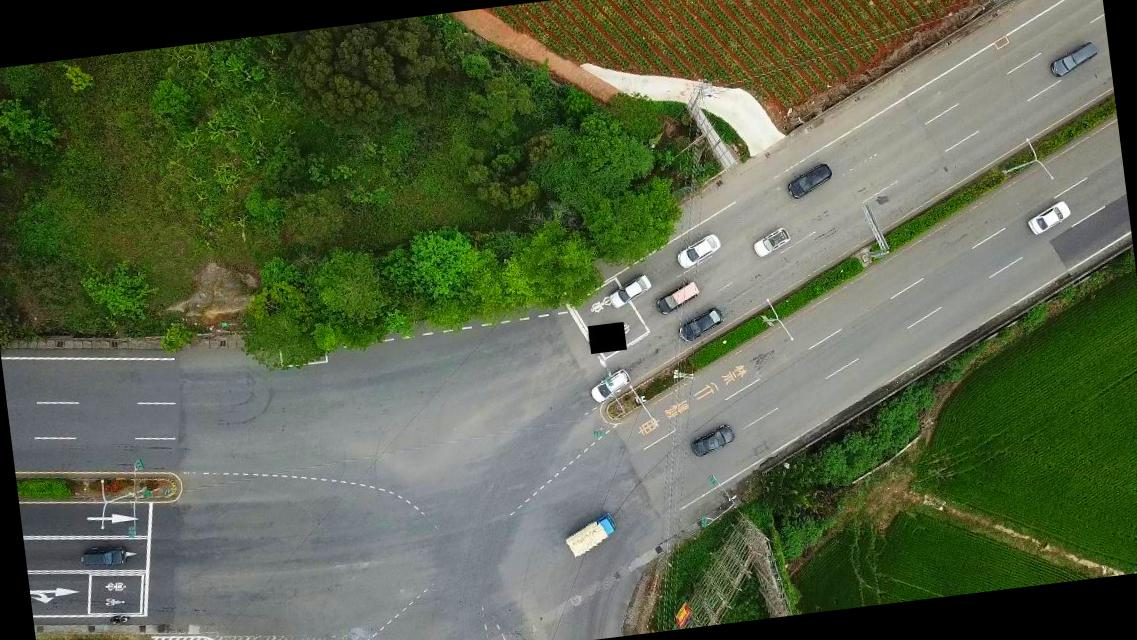vehicle: (560, 513, 620, 558), (1046, 38, 1101, 78), (674, 305, 725, 343), (784, 161, 833, 200), (1023, 200, 1073, 238), (586, 366, 634, 405), (686, 422, 736, 459), (674, 231, 722, 269), (653, 279, 702, 316), (608, 272, 653, 310), (749, 226, 792, 260), (76, 542, 126, 568)
